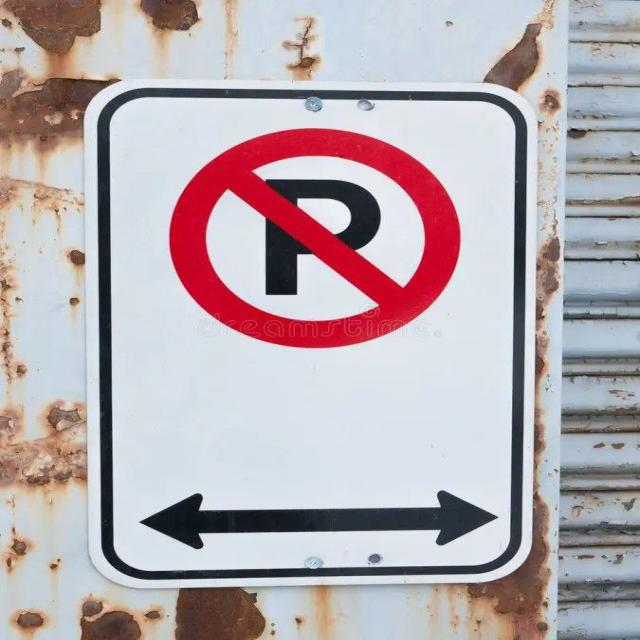No_parking: (160, 130, 460, 348)
